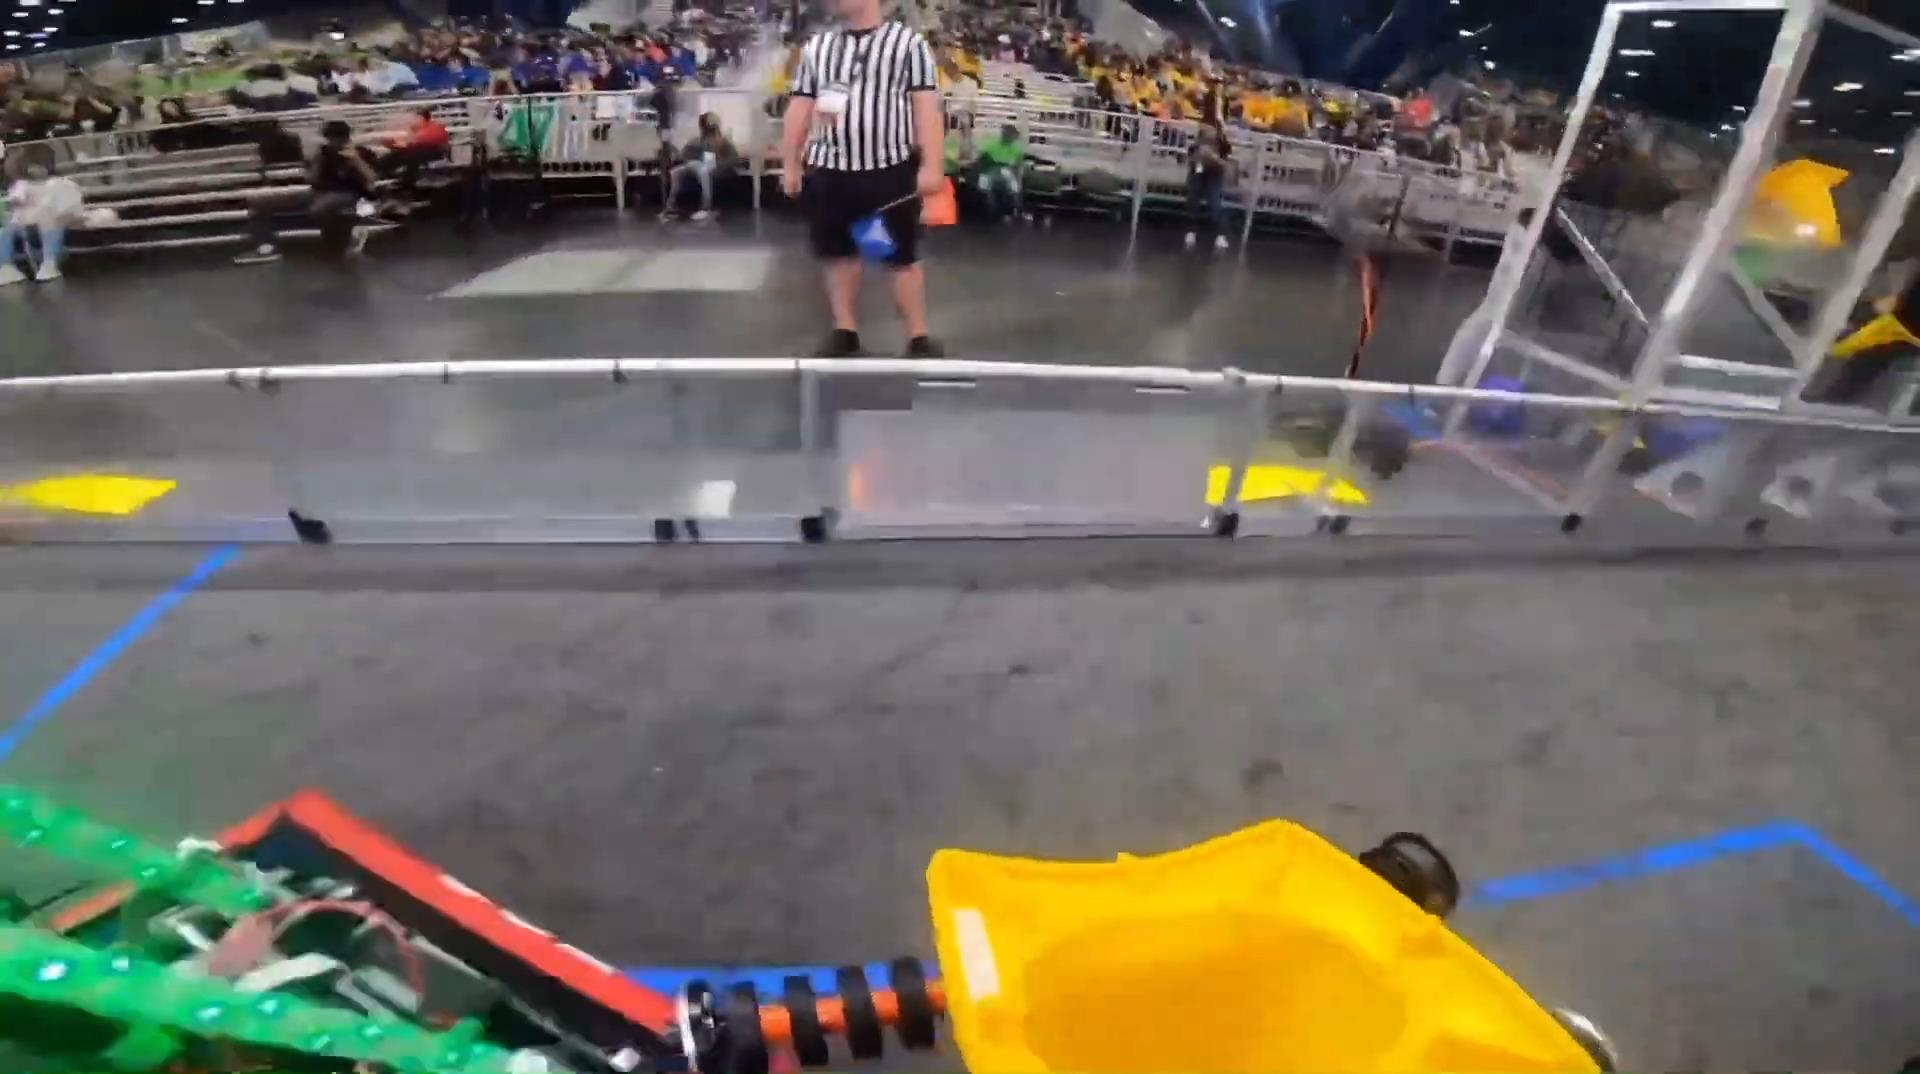robot: (0, 786, 711, 1074)
